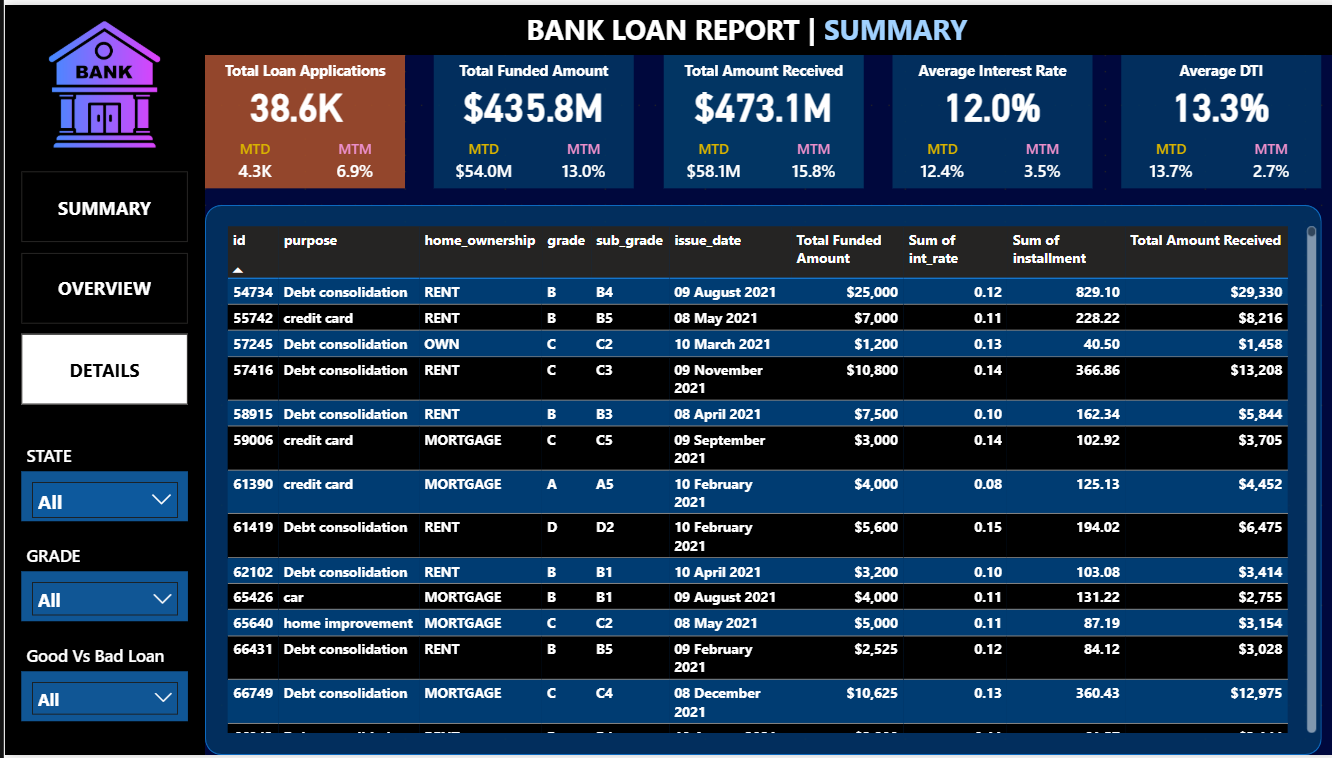

The dashboard page shown, as its layout file describes it:
{"tool":"powerbi","page":{"name":"DETAILS","canvas":[1280,720],"ordinal":2},"visuals":[{"type":"shape","box":[192,192,1072,528],"z":0},{"type":"shape","box":[0,0,1280,48],"z":1000},{"type":"shape","box":[0,0,192,720],"z":2000},{"type":"textbox","box":[496,0,448,48],"z":3000},{"type":"shape","box":[192,48,192,128],"z":3000,"group":"g1"},{"type":"shape","box":[412,48,192,128],"z":3000,"group":"g2"},{"type":"shape","box":[632,48,192,128],"z":3000,"group":"g3"},{"type":"shape","box":[852,48,192,128],"z":3000,"group":"g4"},{"type":"shape","box":[1072,48,192,128],"z":3000,"group":"g5"},{"type":"group","id":"g1","title":"Group 1","box":[192,48,192,128],"z":4000},{"type":"card","fields":{"Values":["financial_domain bank_loan.Total Loan Application"]},"box":[208,64,144,64],"z":4000,"group":"g1"},{"type":"card","fields":{"Values":["financial_domain bank_loan.Total Funded Amount"]},"box":[428,64,160,64],"z":4000,"group":"g2"},{"type":"card","fields":{"Values":["financial_domain bank_loan.Total Amount Received"]},"box":[648,64,160,64],"z":4000,"group":"g3"},{"type":"card","fields":{"Values":["financial_domain bank_loan.Avg Interest Rate"]},"box":[868,64,160,64],"z":4000,"group":"g4"},{"type":"card","fields":{"Values":["financial_domain bank_loan.Avg DTI"]},"box":[1088,64,160,64],"z":4000,"group":"g5"},{"type":"textbox","box":[192,48,192,32],"z":5000,"group":"g1"},{"type":"group","id":"g2","title":"Group 1","box":[412,48,192,128],"z":5000},{"type":"textbox","box":[412,48,192,32],"z":5000,"group":"g2"},{"type":"textbox","box":[632,48,192,32],"z":5000,"group":"g3"},{"type":"textbox","box":[852,48,192,32],"z":5000,"group":"g4"},{"type":"textbox","box":[1072,48,192,32],"z":5000,"group":"g5"},{"type":"group","id":"g3","title":"Group 1","box":[632,48,192,128],"z":6000},{"type":"card","title":"MTD","fields":{"Values":["financial_domain bank_loan.MTD Loan Application"]},"box":[192,128,96,48],"z":6000,"group":"g1"},{"type":"card","title":"MTD","fields":{"Values":["financial_domain bank_loan.MTD Total Funded Amount"]},"box":[412,128,96,48],"z":6000,"group":"g2"},{"type":"card","title":"MTD","fields":{"Values":["financial_domain bank_loan.MTD Total Amount Received"]},"box":[632,128,96,48],"z":6000,"group":"g3"},{"type":"card","title":"MTD","fields":{"Values":["financial_domain bank_loan.MTD Avg interest rate"]},"box":[852,128,96,48],"z":6000,"group":"g4"},{"type":"card","title":"MTD","fields":{"Values":["financial_domain bank_loan.MTD Avg DTI"]},"box":[1072,128,96,48],"z":6000,"group":"g5"},{"type":"group","id":"g4","title":"Group 1","box":[852,48,192,128],"z":7000},{"type":"card","title":"MTM","fields":{"Values":["financial_domain bank_loan.MTM Loan Application"]},"box":[288,128,96,48],"z":7000,"group":"g1"},{"type":"card","title":"MTM","fields":{"Values":["financial_domain bank_loan.MTM Funded Amount"]},"box":[508,128,96,48],"z":7000,"group":"g2"},{"type":"card","title":"MTM","fields":{"Values":["financial_domain bank_loan.MTM Total Amount Received"]},"box":[728,128,96,48],"z":7000,"group":"g3"},{"type":"card","title":"MTM","fields":{"Values":["financial_domain bank_loan.MTM Avg Int Rate"]},"box":[948,128,96,48],"z":7000,"group":"g4"},{"type":"card","title":"MTM","fields":{"Values":["financial_domain bank_loan.MTM Avg DTI"]},"box":[1168,128,96,48],"z":7000,"group":"g5"},{"type":"group","id":"g5","title":"Group 1","box":[1072,48,192,128],"z":8000},{"type":"slicer","fields":{"Values":["financial_domain bank_loan.address_state"]},"box":[16,448,160,48],"z":9000},{"type":"slicer","fields":{"Values":["financial_domain bank_loan.grade"]},"box":[16,544,160,48],"z":10000},{"type":"slicer","fields":{"Values":["financial_domain bank_loan.Good Vs Bad Loan"]},"box":[16,640,160,48],"z":11000},{"type":"textbox","box":[16,416,160,32],"z":12000},{"type":"textbox","box":[16,512,128,32],"z":13000},{"type":"textbox","box":[16,608,144,32],"z":14000},{"type":"tableEx","fields":{"Values":["financial_domain bank_loan.id","financial_domain bank_loan.purpose","financial_domain bank_loan.home_ownership","financial_domain bank_loan.grade","financial_domain bank_loan.sub_grade","financial_domain bank_loan.issue_date","financial_domain bank_loan.Total Funded Amount","Sum(financial_domain bank_loan.int_rate)","Sum(financial_domain bank_loan.installment)","financial_domain bank_loan.Total Amount Received"]},"box":[208,208,1056,496],"z":15000},{"type":"image","box":[16,0,160,144],"z":16001},{"type":"pageNavigator","box":[16,160,160,224],"z":16002}]}

Visuals, with their boxes in screenshot pixels (x1, y1, x2, y2), scaled from the page's 1280x720 canvas onto the 1332x758 screenshot:
shape: [x1=200, y1=202, x2=1315, y2=757]
shape: [x1=0, y1=0, x2=1331, y2=51]
shape: [x1=0, y1=0, x2=200, y2=757]
textbox: [x1=516, y1=0, x2=982, y2=51]
shape: [x1=200, y1=51, x2=400, y2=185]
shape: [x1=429, y1=51, x2=629, y2=185]
shape: [x1=658, y1=51, x2=857, y2=185]
shape: [x1=887, y1=51, x2=1086, y2=185]
shape: [x1=1116, y1=51, x2=1315, y2=185]
"Group 1" group: [x1=200, y1=51, x2=400, y2=185]
card - financial_domain bank_loan.Total Loan Application: [x1=216, y1=67, x2=366, y2=135]
card - financial_domain bank_loan.Total Funded Amount: [x1=445, y1=67, x2=612, y2=135]
card - financial_domain bank_loan.Total Amount Received: [x1=674, y1=67, x2=841, y2=135]
card - financial_domain bank_loan.Avg Interest Rate: [x1=903, y1=67, x2=1070, y2=135]
card - financial_domain bank_loan.Avg DTI: [x1=1132, y1=67, x2=1299, y2=135]
textbox: [x1=200, y1=51, x2=400, y2=84]
"Group 1" group: [x1=429, y1=51, x2=629, y2=185]
textbox: [x1=429, y1=51, x2=629, y2=84]
textbox: [x1=658, y1=51, x2=857, y2=84]
textbox: [x1=887, y1=51, x2=1086, y2=84]
textbox: [x1=1116, y1=51, x2=1315, y2=84]
"Group 1" group: [x1=658, y1=51, x2=857, y2=185]
"MTD" card: [x1=200, y1=135, x2=300, y2=185]
"MTD" card: [x1=429, y1=135, x2=529, y2=185]
"MTD" card: [x1=658, y1=135, x2=758, y2=185]
"MTD" card: [x1=887, y1=135, x2=987, y2=185]
"MTD" card: [x1=1116, y1=135, x2=1215, y2=185]
"Group 1" group: [x1=887, y1=51, x2=1086, y2=185]
"MTM" card: [x1=300, y1=135, x2=400, y2=185]
"MTM" card: [x1=529, y1=135, x2=629, y2=185]
"MTM" card: [x1=758, y1=135, x2=857, y2=185]
"MTM" card: [x1=987, y1=135, x2=1086, y2=185]
"MTM" card: [x1=1215, y1=135, x2=1315, y2=185]
"Group 1" group: [x1=1116, y1=51, x2=1315, y2=185]
slicer - financial_domain bank_loan.address_state: [x1=17, y1=472, x2=183, y2=522]
slicer - financial_domain bank_loan.grade: [x1=17, y1=573, x2=183, y2=623]
slicer - financial_domain bank_loan.Good Vs Bad Loan: [x1=17, y1=674, x2=183, y2=724]
textbox: [x1=17, y1=438, x2=183, y2=472]
textbox: [x1=17, y1=539, x2=150, y2=573]
textbox: [x1=17, y1=640, x2=166, y2=674]
tableEx - financial_domain bank_loan.id x financial_domain bank_loan.purpose: [x1=216, y1=219, x2=1315, y2=741]
image: [x1=17, y1=0, x2=183, y2=152]
pageNavigator: [x1=17, y1=168, x2=183, y2=404]
